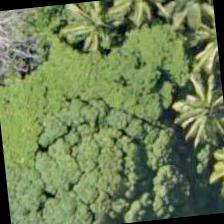Kelapa_Sawit: (48, 0, 146, 80), (168, 64, 223, 160), (164, 0, 222, 86), (155, 0, 218, 50)
